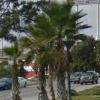Palm tree: (25, 6, 79, 93)
